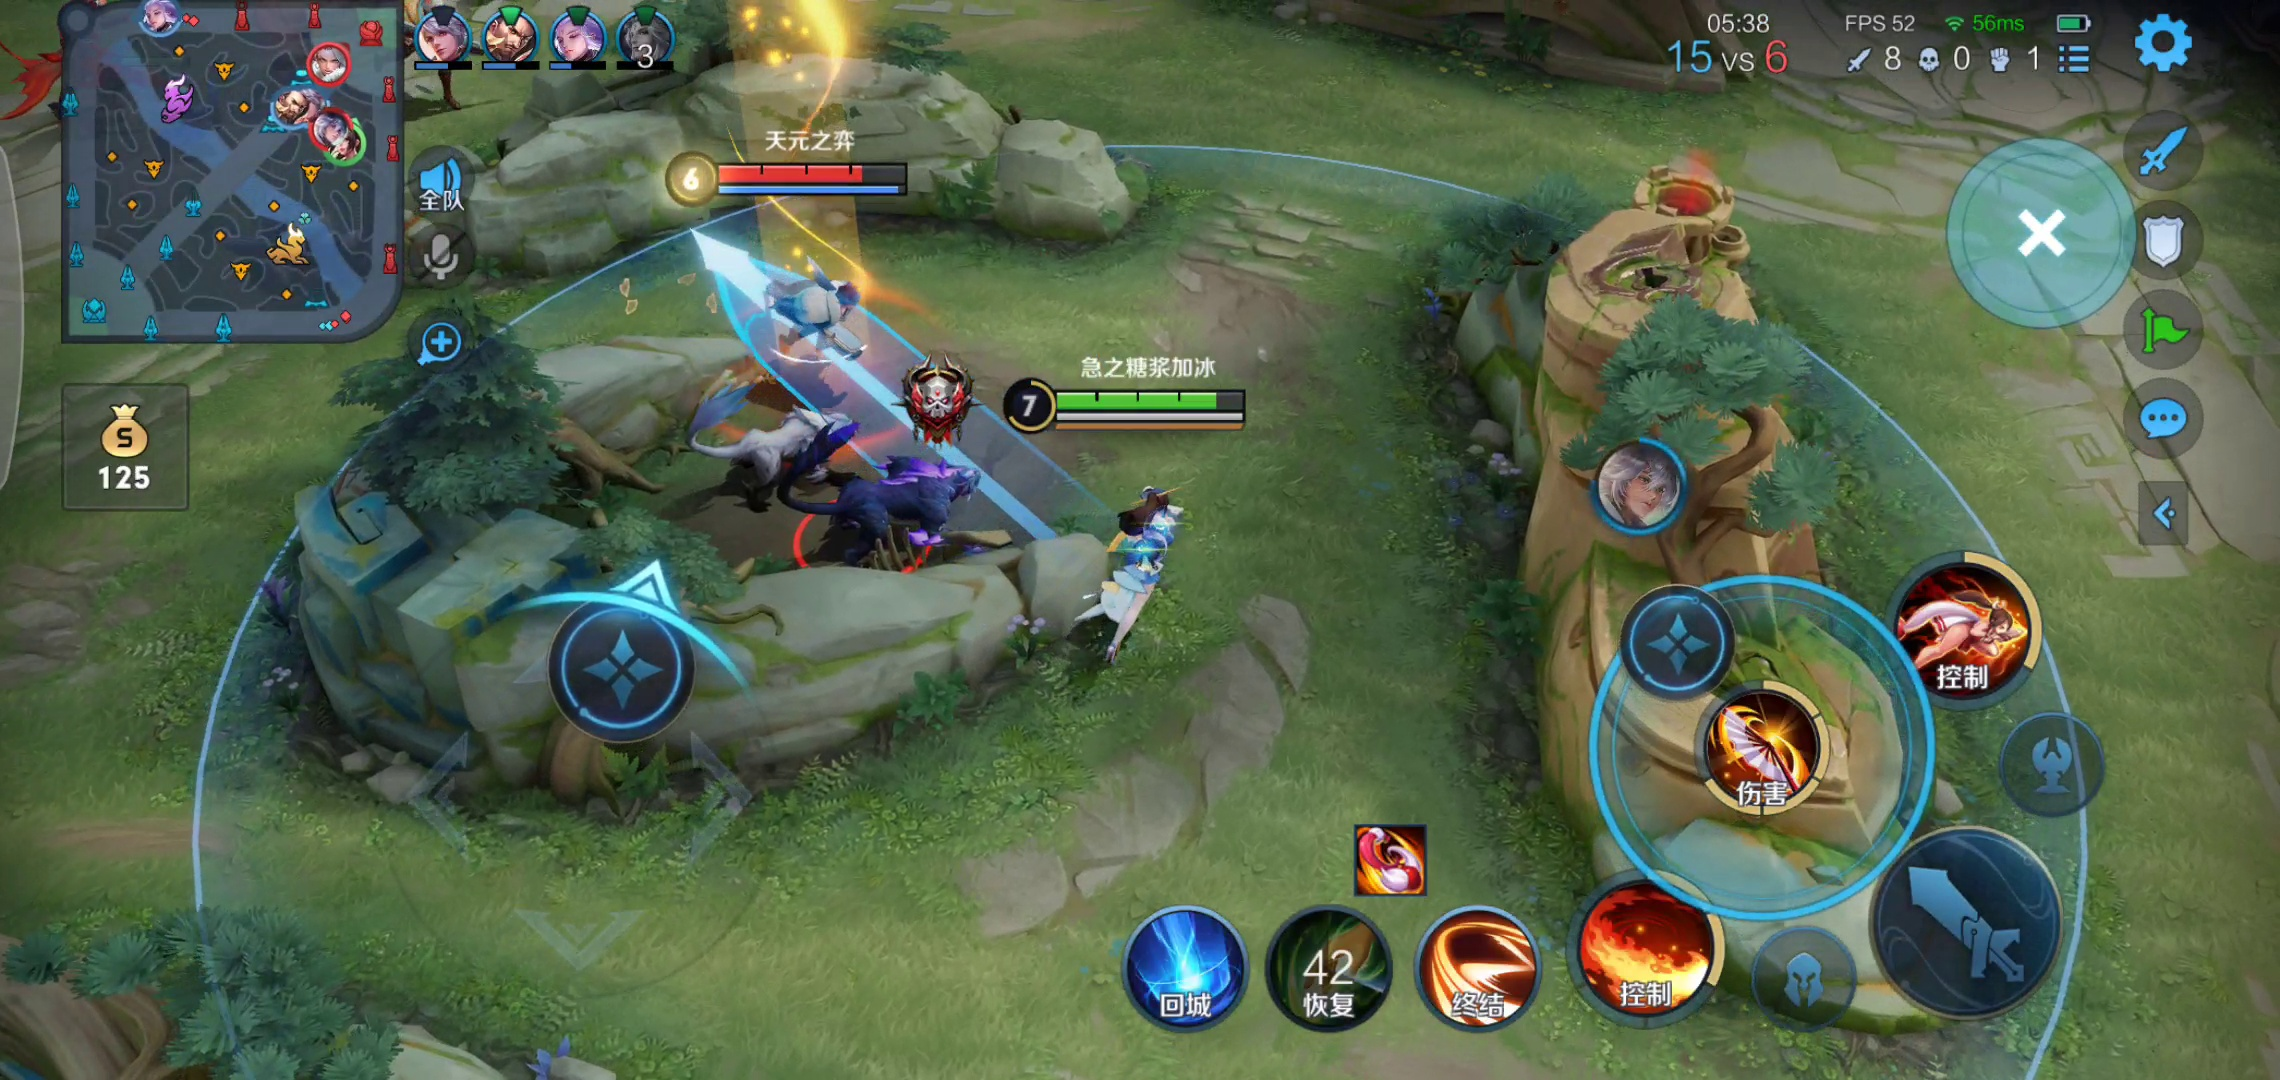hero: (724, 254, 884, 384), (1080, 491, 1188, 656)
wild_monster: (644, 411, 992, 570)
